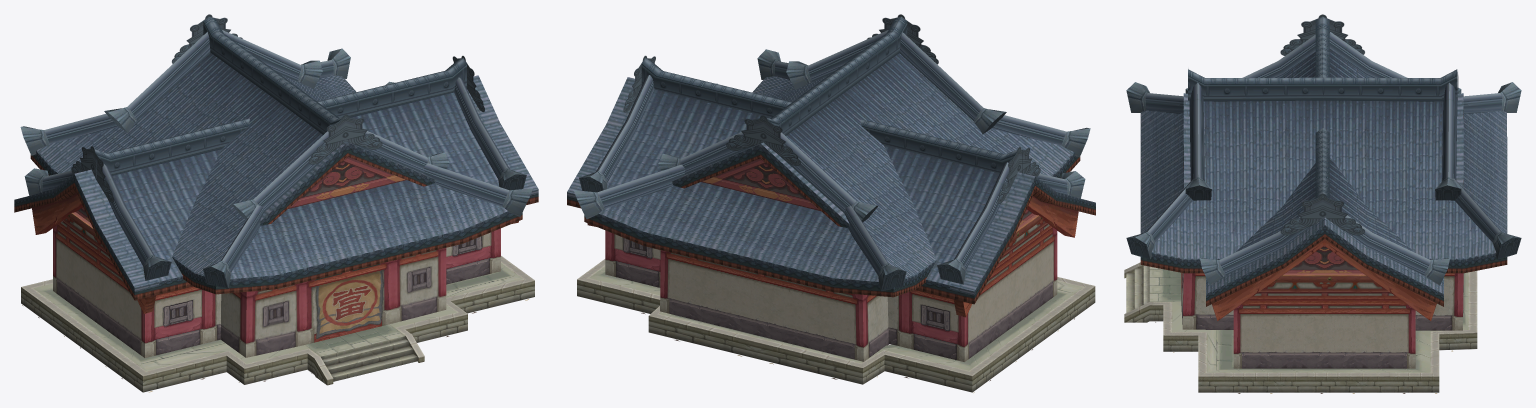
3 renders of one model, left to right at view 1: azimuth 30°, elevation 25°; view 2: azimuth 150°, elevation 25°; view 3: azimuth 270°, elevation 25°, orthographic.
Parts seen in each view (by area): view 1: gujian_170, gujian_166, gujian_175, gujian_176, gujian_171, gujian_169, gujian_173, gujian_172, gujian_165, gujian_167, gujian_168, gujian_174 (+1 smaller); view 2: gujian_170, gujian_166, gujian_172, gujian_175, gujian_168, gujian_169, gujian_165, gujian_176, gujian_167, gujian_174, gujian_177; view 3: gujian_170, gujian_166, gujian_175, gujian_172, gujian_176, gujian_177, gujian_168, gujian_174, gujian_165, gujian_167.
Boxes of the visible parts, x1=… form: gujian_170: x1=14, y1=53, x2=538, y2=300; gujian_166: x1=20, y1=17, x2=532, y2=288; gujian_175: x1=21, y1=256, x2=534, y2=392; gujian_176: x1=34, y1=263, x2=522, y2=381; gujian_171: x1=246, y1=248, x2=446, y2=357; gujian_169: x1=145, y1=228, x2=500, y2=357; gujian_173: x1=302, y1=261, x2=393, y2=345; gujian_172: x1=53, y1=225, x2=144, y2=357; gujian_165: x1=71, y1=14, x2=484, y2=202; gujian_167: x1=76, y1=156, x2=406, y2=222; gujian_168: x1=83, y1=244, x2=113, y2=334; gujian_174: x1=208, y1=292, x2=246, y2=357; gujian_170: x1=567, y1=53, x2=1095, y2=304; gujian_166: x1=573, y1=16, x2=1090, y2=291; gujian_172: x1=660, y1=227, x2=1057, y2=361; gujian_175: x1=577, y1=259, x2=1095, y2=392; gujian_168: x1=728, y1=248, x2=1025, y2=344; gujian_169: x1=605, y1=230, x2=964, y2=361; gujian_165: x1=623, y1=14, x2=1040, y2=203; gujian_176: x1=590, y1=266, x2=1082, y2=370; gujian_167: x1=701, y1=158, x2=1034, y2=225; gujian_174: x1=862, y1=293, x2=905, y2=361; gujian_177: x1=587, y1=196, x2=1078, y2=317; gujian_170: x1=1140, y1=48, x2=1507, y2=306; gujian_166: x1=1126, y1=16, x2=1521, y2=285; gujian_175: x1=1124, y1=262, x2=1477, y2=393; gujian_172: x1=1233, y1=300, x2=1463, y2=368; gujian_176: x1=1126, y1=265, x2=1468, y2=372; gujian_177: x1=1212, y1=239, x2=1436, y2=320; gujian_168: x1=1294, y1=285, x2=1463, y2=368; gujian_174: x1=1182, y1=273, x2=1463, y2=330; gujian_165: x1=1280, y1=14, x2=1458, y2=235; gujian_167: x1=1286, y1=246, x2=1362, y2=273.
Size of the model in its own units: 2.96 by 1.65 by 2.55.
13 materials, 13 textured.
